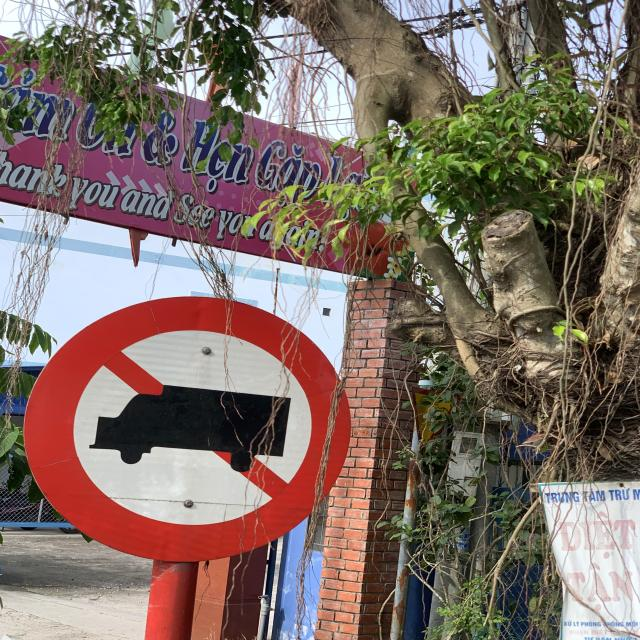Cam_Xe_Tai: (23, 297, 358, 558)
